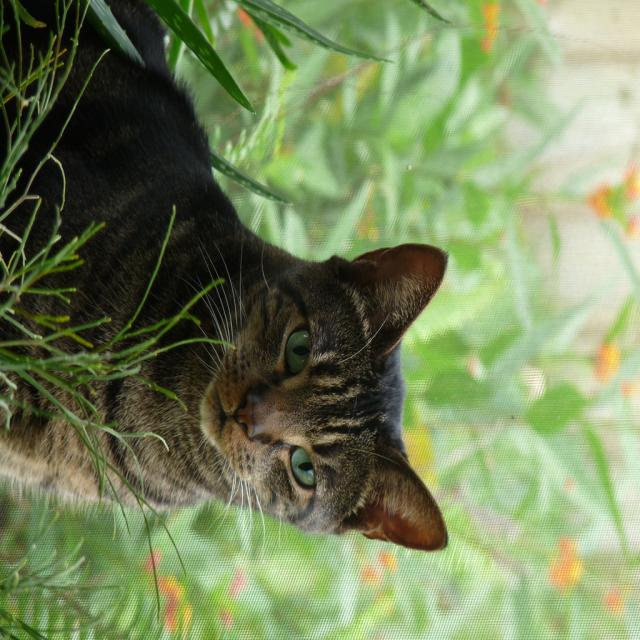Cat: (0, 0, 447, 551)
